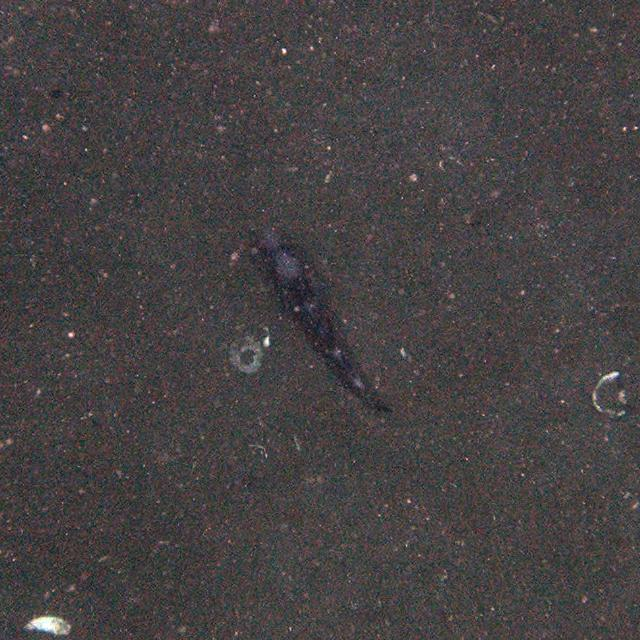roundfish: (245, 227, 394, 419)
